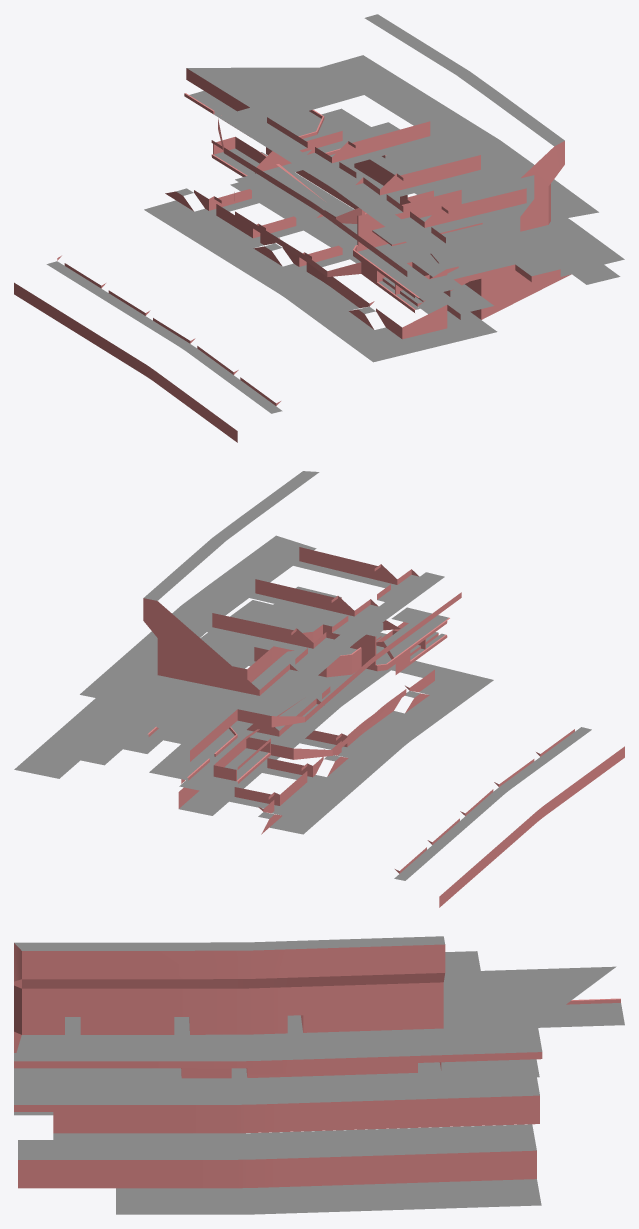
3 renders of one model, top to bottom at view 1: azimuth 30°, elevation 25°; view 2: azimuth 150°, elevation 25°; view 3: azimuth 270°, elevation 25°, orthographic. The views are drawn at different scales.
Parts seen in each view (by area): view 1: Base_03; view 2: Base_03; view 3: Base_03.
Part boxes in pixels (x1,y1,x2,y2): Base_03: (14,14,624,442); Base_03: (14,471,624,907); Base_03: (14,936,624,1214).
Size of the model in its own units: 101 by 47.36 by 99.83.
